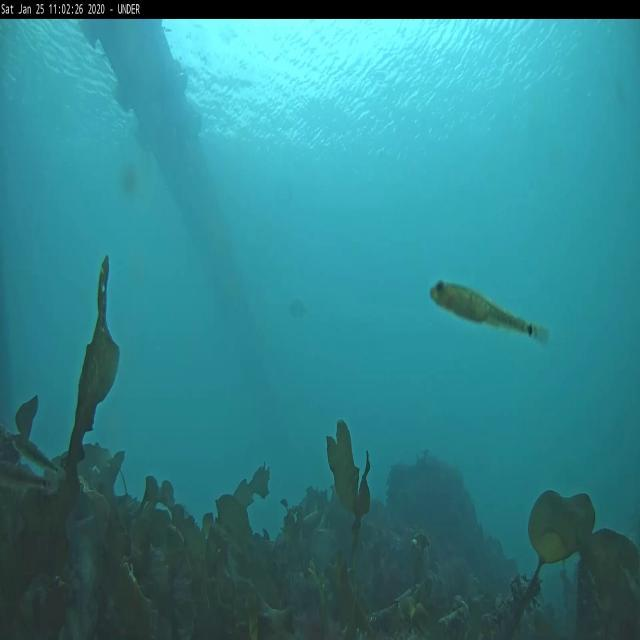fish: (426, 266, 556, 356), (16, 431, 67, 478), (288, 305, 308, 323)
